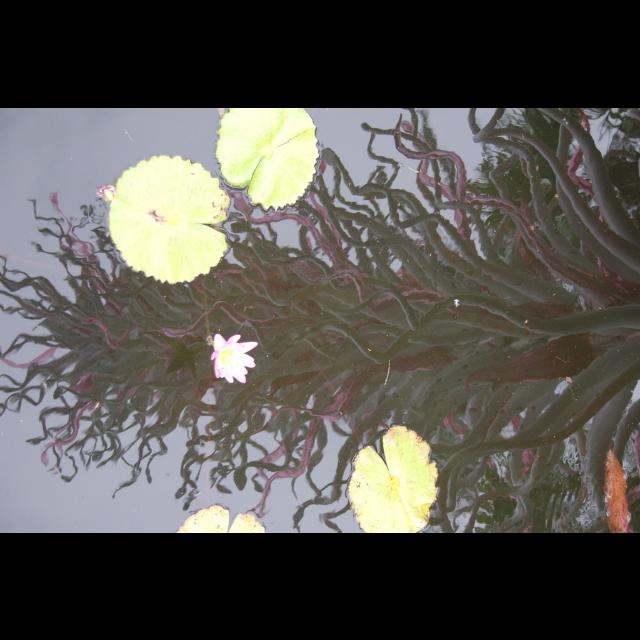Flower: (212, 336, 262, 382)
